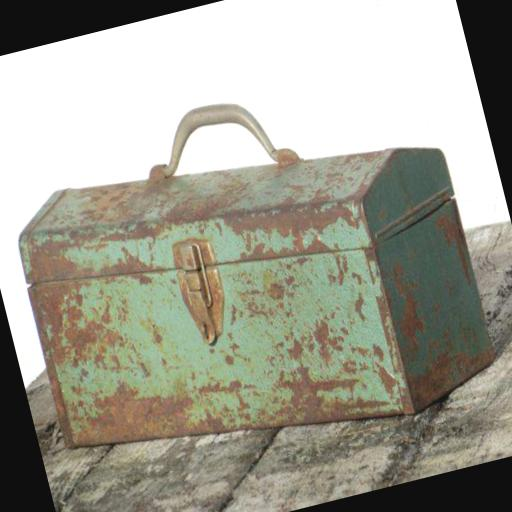segmentation: (0, 209, 108, 323), (78, 379, 199, 441), (49, 304, 121, 368), (105, 249, 153, 284), (185, 229, 223, 267), (78, 179, 136, 202), (185, 415, 189, 419)
